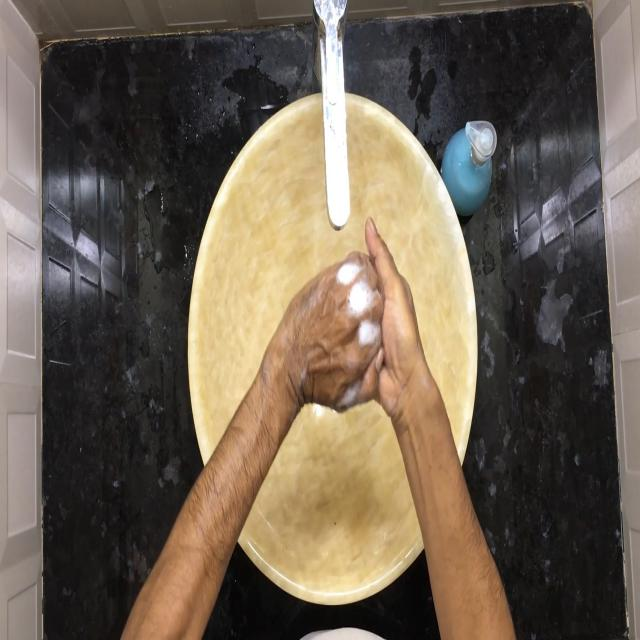step_4: (291, 221, 427, 417)
